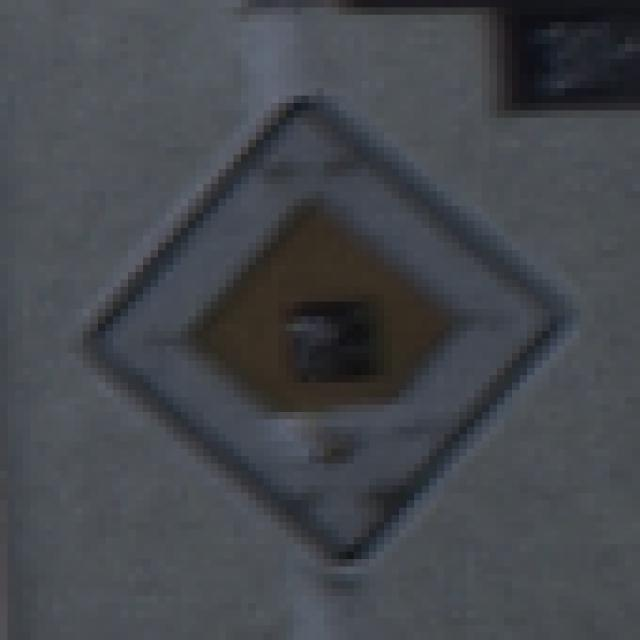Main Road: (62, 53, 589, 590)
